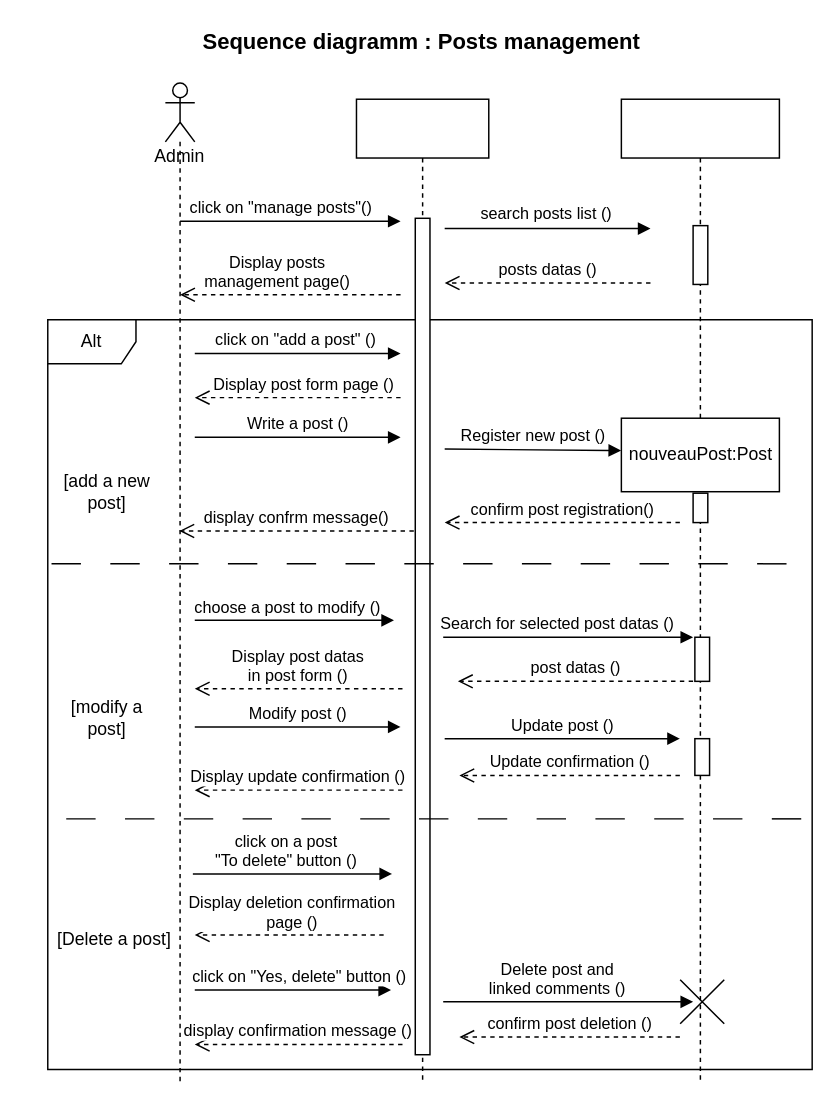
Some shapes in this 838 by 1110 pixel diagram are drawn without their labels. The box of each missing label's shape, as (x1, y1, x2, y2) in pixels:
:Posts: (620, 98, 779, 1084)
Blog Interface: (355, 98, 489, 1084)
